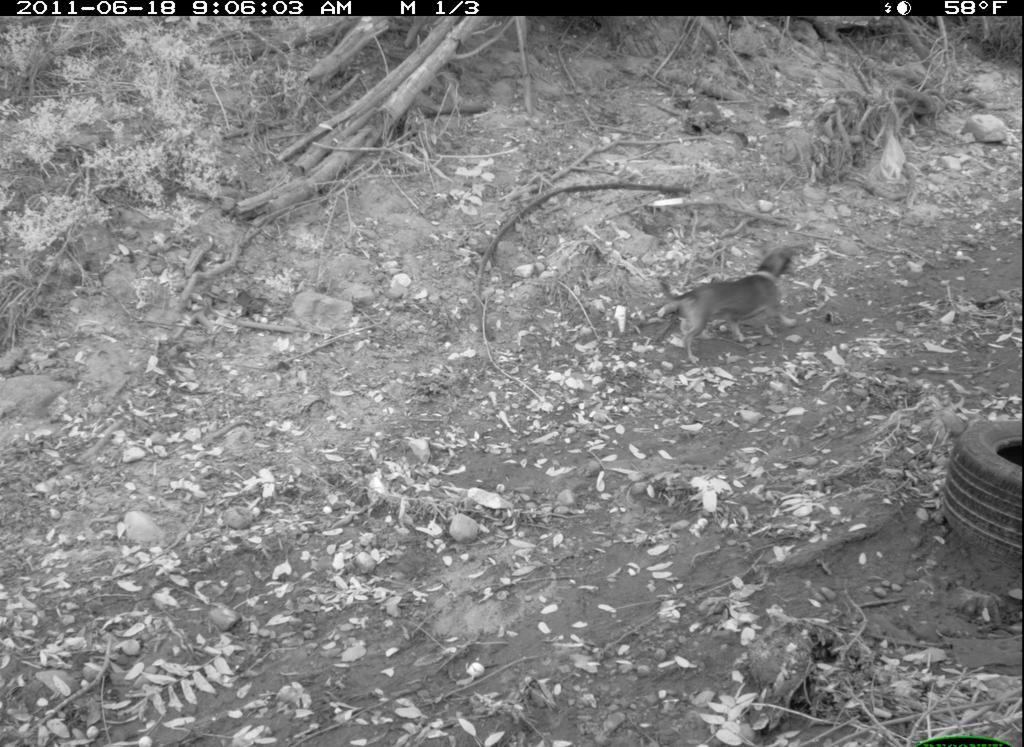dog: (642, 239, 804, 370)
